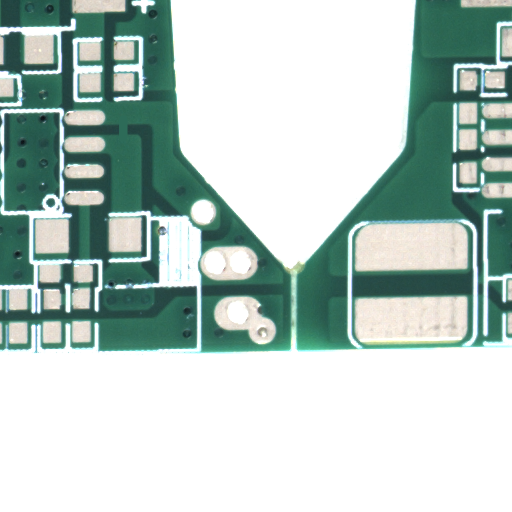Short: (123, 129, 142, 148)
